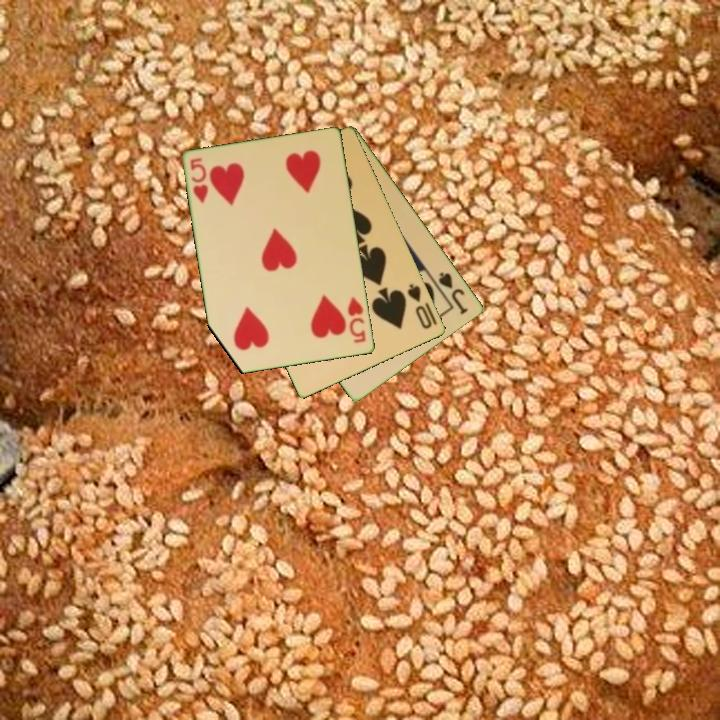10s: (404, 281, 435, 332)
5h: (344, 294, 369, 346), (187, 155, 211, 206)
Js: (435, 268, 471, 318)
